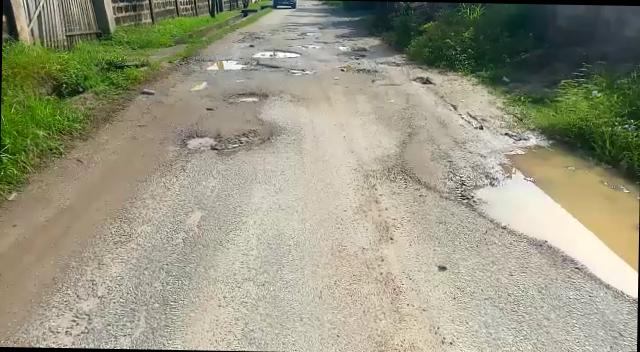pothole: (460, 136, 640, 304), (181, 130, 261, 152), (188, 58, 247, 72), (224, 89, 270, 106), (250, 48, 304, 58)
